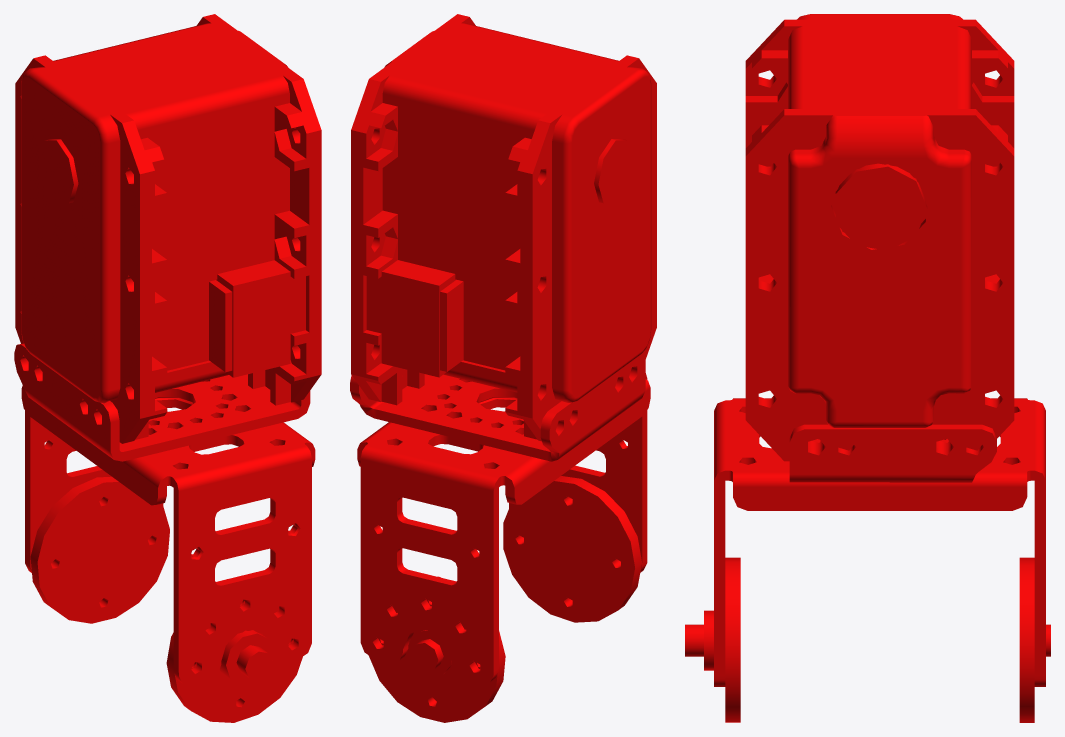
Rendered from Elbow_Yaw.dae.
3 views of the same model, side by side, from view 1: azimuth 30°, elevation 25°; view 2: azimuth 150°, elevation 25°; view 3: azimuth 270°, elevation 25° (orthographic). The views are drawn at different scales.
Parts seen in each view (by area): view 1: ElbowYaw; view 2: ElbowYaw; view 3: ElbowYaw.
Part boxes in pixels (box(x1,y1,x2,y2)): ElbowYaw: box(14, 14, 321, 722); ElbowYaw: box(350, 14, 656, 722); ElbowYaw: box(685, 14, 1050, 722).
Bounding box in the file's own units: 0.037 × 0.0948 × 0.0485.
